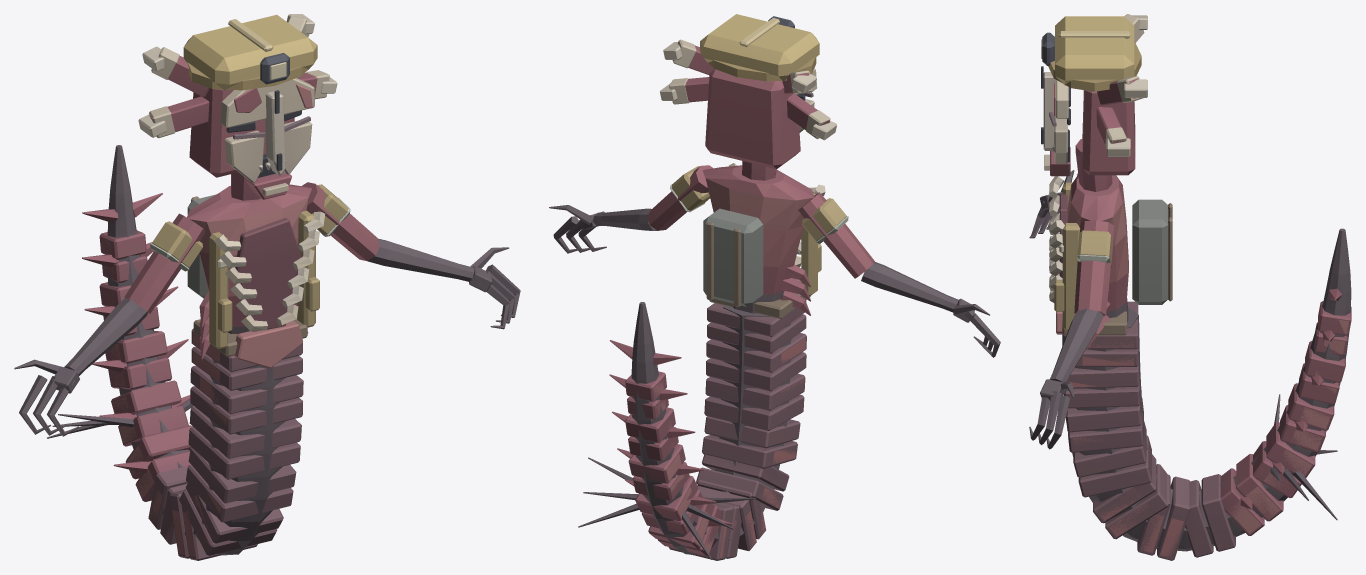
The model's file is DredgeMiner.glb.
3 renders of one model, left to right at view 1: azimuth 30°, elevation 25°; view 2: azimuth 150°, elevation 25°; view 3: azimuth 270°, elevation 25°, orthographic. The views are drawn at different scales.
Parts seen in each view (by area): view 1: Body, Head, ArmR, ArmL; view 2: Body, Head, ArmR, ArmL; view 3: Body, Head, ArmL, ArmR.
Boxes of the visible parts, bbox=[...] form: Body: bbox=[47, 145, 325, 560]; Head: bbox=[138, 14, 337, 200]; ArmR: bbox=[14, 213, 205, 436]; ArmL: bbox=[301, 182, 520, 329]; Body: bbox=[578, 163, 825, 560]; Head: bbox=[660, 14, 836, 180]; ArmR: bbox=[798, 192, 1000, 357]; ArmL: bbox=[549, 165, 712, 253]; Body: bbox=[1049, 175, 1351, 560]; Head: bbox=[1041, 14, 1147, 191]; ArmL: bbox=[1029, 220, 1113, 449]; ArmR: bbox=[1029, 170, 1078, 238].
Size of the model in its own units: 6.83 by 7.16 by 4.04.
